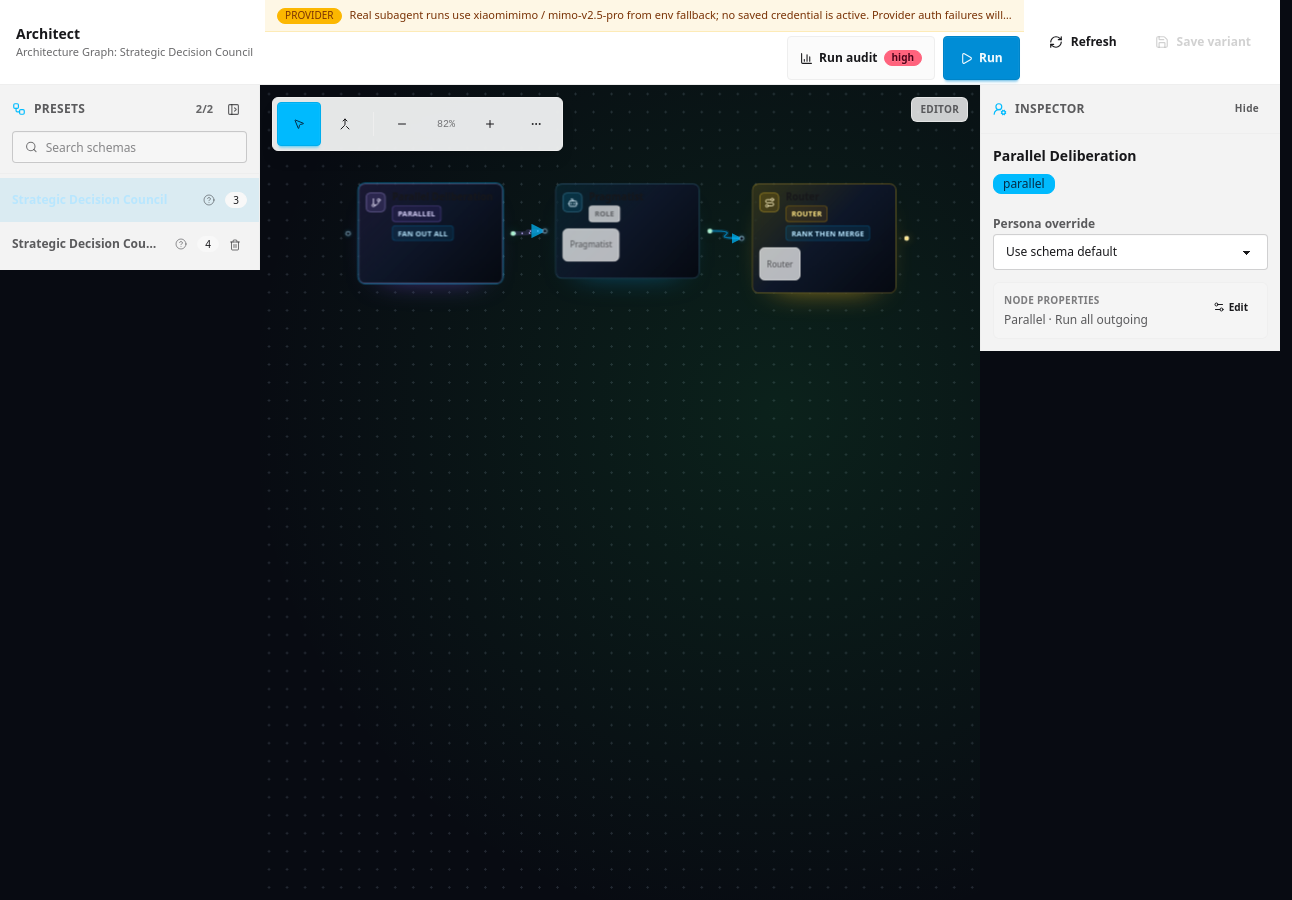
Test: ArchitectPage › deletes a selected variant schema and safely keeps selection on a remaining schema
Click the button with test id "architect-schema-strategic-decision-council-variant-1" at (116, 244), box x1=12 y1=228 x2=219 y2=260
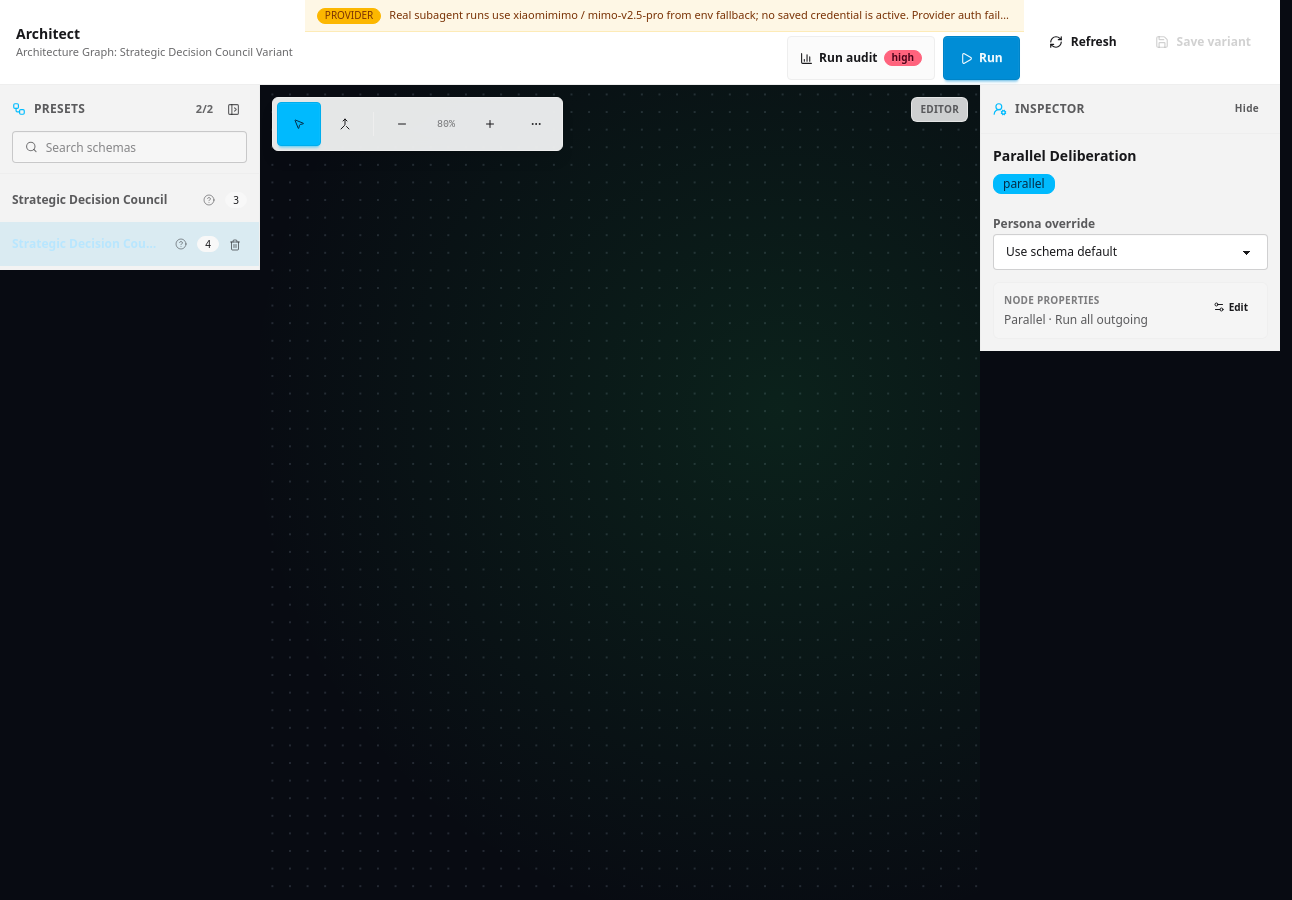
Click the button with test id "architect-delete-schema-strategic-decision-council-variant-1" at (235, 245), box x1=223 y1=233 x2=247 y2=257
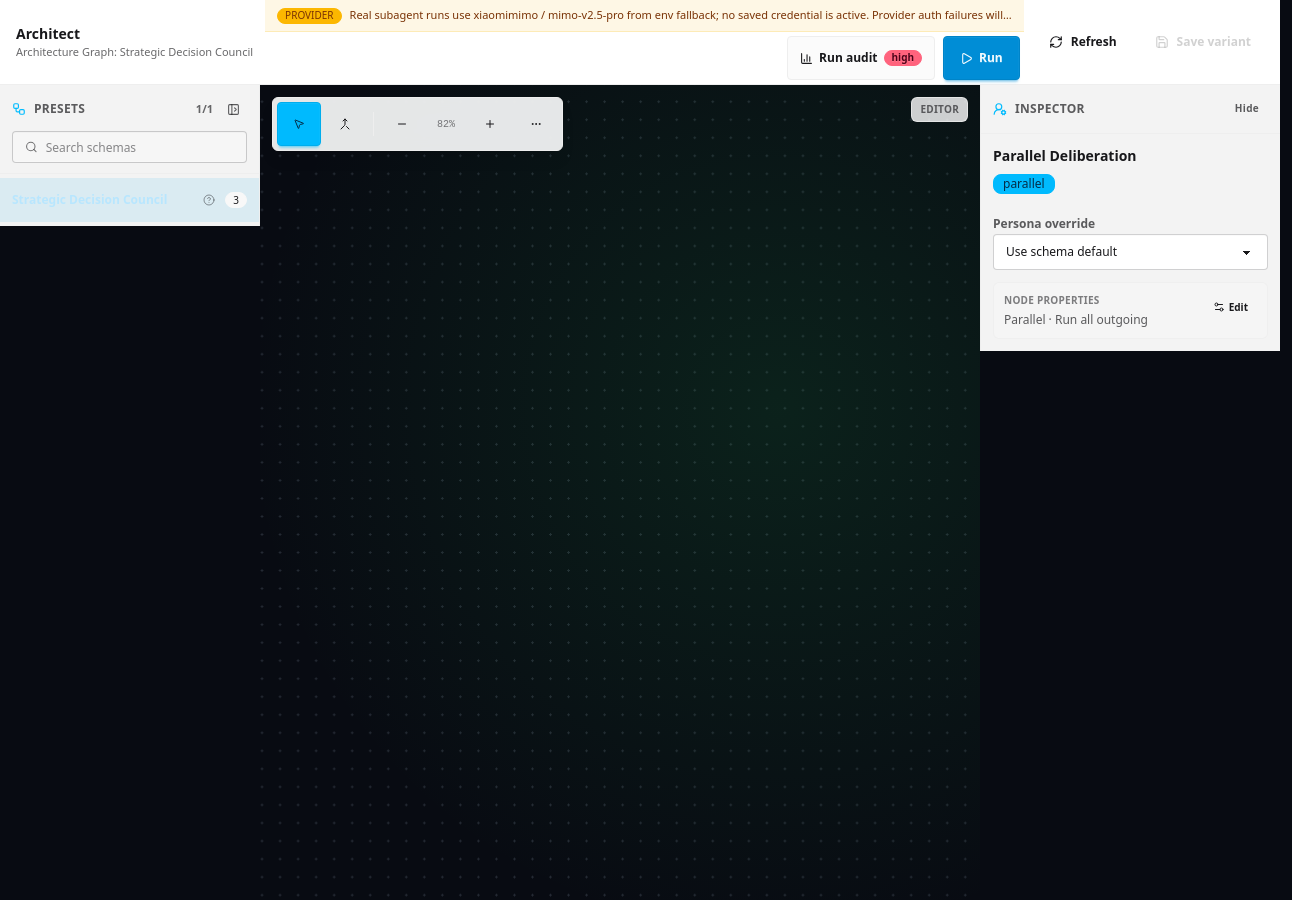
expect the button with test id "architect-schema-strategic-decision-council-variant-1" is gone: met
